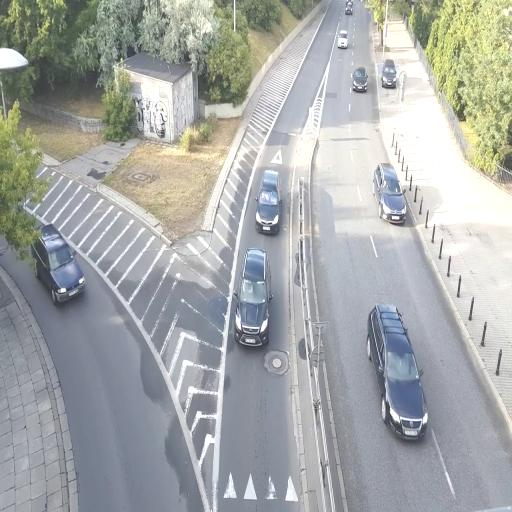vehicle: (365, 303, 429, 440), (366, 303, 428, 440), (366, 304, 428, 440), (30, 228, 86, 307), (234, 247, 270, 347), (234, 248, 270, 347), (378, 162, 406, 224), (255, 169, 280, 233), (379, 185, 406, 224), (382, 60, 398, 88), (352, 66, 368, 92), (338, 26, 348, 50)
